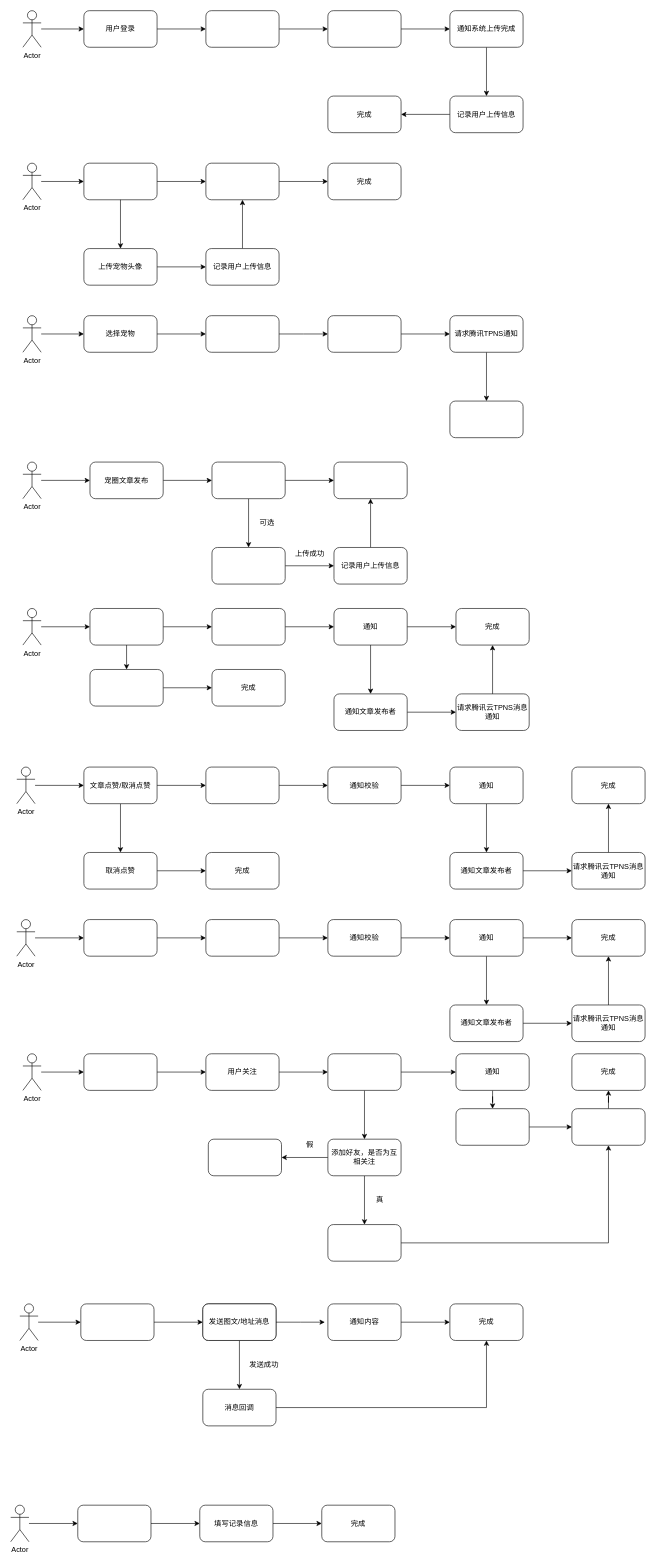
The diagram is 656 pixels wide and 1565 high, and some of its shapes have lost their labels. The box of each missing label's shape, as (x1, y1, x2, y2) in pixels:
上传到腾讯云COS: (327, 10, 401, 47)
上传图片/视频到腾讯COS: (211, 547, 285, 584)
上传宠物信息: (205, 163, 279, 200)
关注/取消关注: (83, 1053, 157, 1090)
填写宠圈信息: (211, 461, 285, 499)
填写宠物信息: (83, 163, 157, 200)
填写提醒信息: (205, 315, 279, 352)
完成提醒: (449, 400, 523, 438)
完成文章发布: (333, 461, 407, 499)
宠物记录: (77, 1505, 151, 1542)
收藏文章: (205, 919, 279, 956)
收藏文章/取消收藏: (83, 919, 157, 956)
文章点赞: (205, 766, 279, 804)
文章评论/删除评论: (89, 608, 163, 645)
权限校验: (89, 669, 163, 706)
添加关注记录: (327, 1053, 401, 1090)
添加双向好友: (327, 1224, 401, 1261)
添加提醒记录: (327, 315, 401, 352)
添加评论记录: (211, 608, 285, 645)
用户上传图片: (205, 10, 279, 47)
用户沟通: (80, 1303, 154, 1340)
请求腾讯云TPNS消息: (571, 1108, 645, 1145)
跳过: (208, 1139, 282, 1176)
通知被关注者: (455, 1108, 529, 1145)
